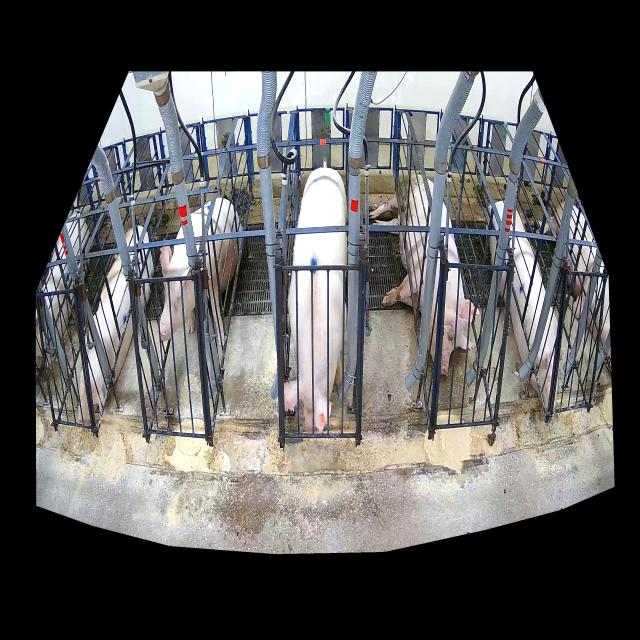pig: (370, 174, 475, 374), (284, 162, 347, 433), (486, 200, 558, 416), (79, 225, 154, 423), (160, 198, 241, 345)
